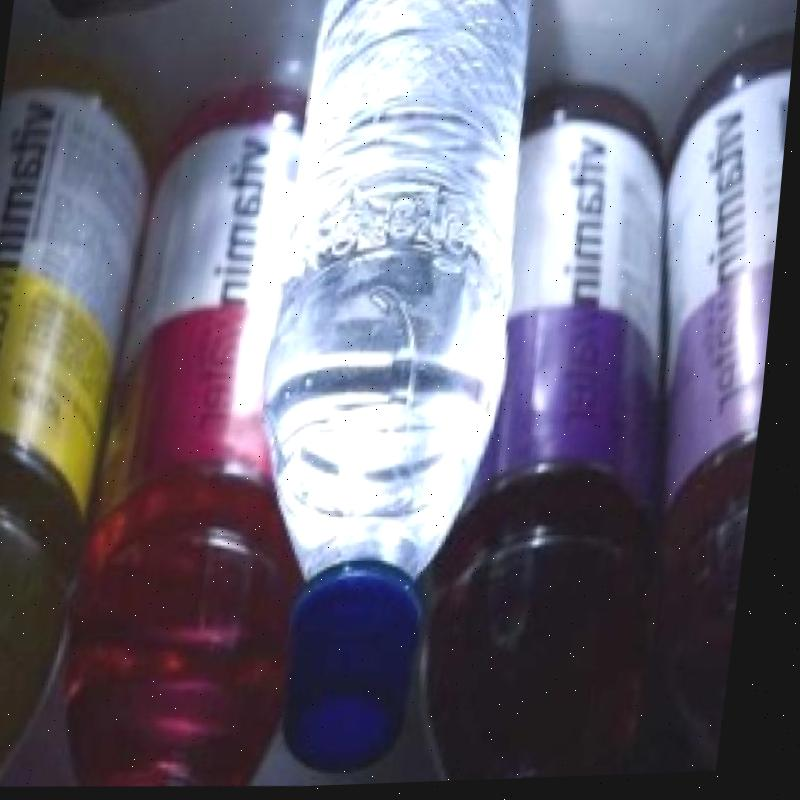botella: (222, 0, 558, 781)
